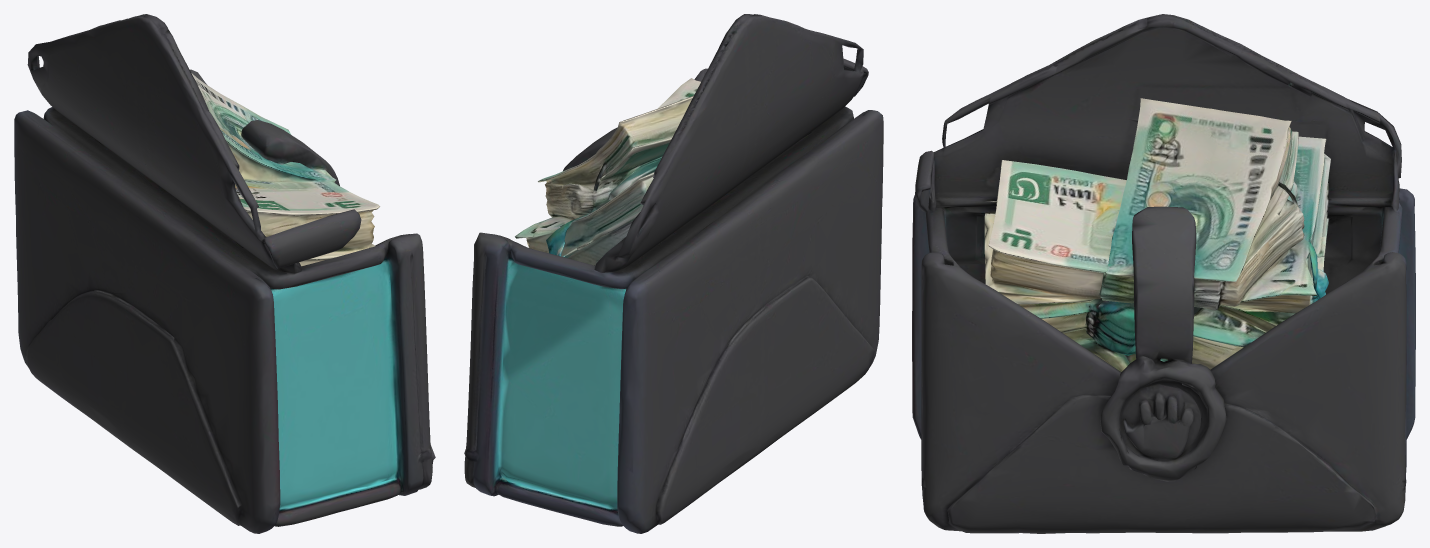
Rendered from protection_money.glb.
3 renders of one model, left to right at view 1: azimuth 30°, elevation 25°; view 2: azimuth 150°, elevation 25°; view 3: azimuth 270°, elevation 25°, orthographic.
Parts seen in each view (by area): view 1: tripo_node_0f5644e9-0ba0-4230-aeb5-8a8c991fd02c; view 2: tripo_node_0f5644e9-0ba0-4230-aeb5-8a8c991fd02c; view 3: tripo_node_0f5644e9-0ba0-4230-aeb5-8a8c991fd02c.
Boxes of the visible parts, x1,y1,x2,y2 form: tripo_node_0f5644e9-0ba0-4230-aeb5-8a8c991fd02c: [14, 14, 435, 533]; tripo_node_0f5644e9-0ba0-4230-aeb5-8a8c991fd02c: [464, 14, 883, 533]; tripo_node_0f5644e9-0ba0-4230-aeb5-8a8c991fd02c: [912, 14, 1415, 533].
Bounding box in the file's own units: 0.5089 × 0.9453 × 0.9816.
Materials: 1 (1 with a texture image).
